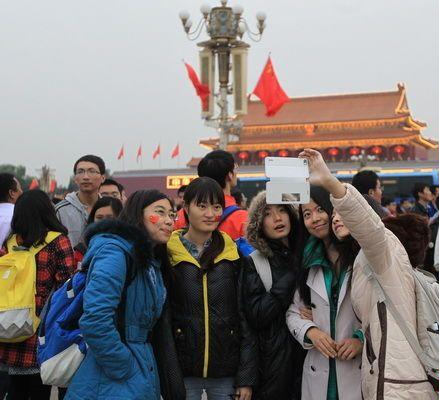person: (289, 145, 437, 400), (56, 187, 178, 400), (170, 147, 257, 400), (285, 181, 375, 400), (165, 176, 241, 400), (1, 187, 76, 400), (237, 188, 307, 399), (344, 168, 416, 369), (56, 153, 114, 357), (71, 194, 127, 373)
